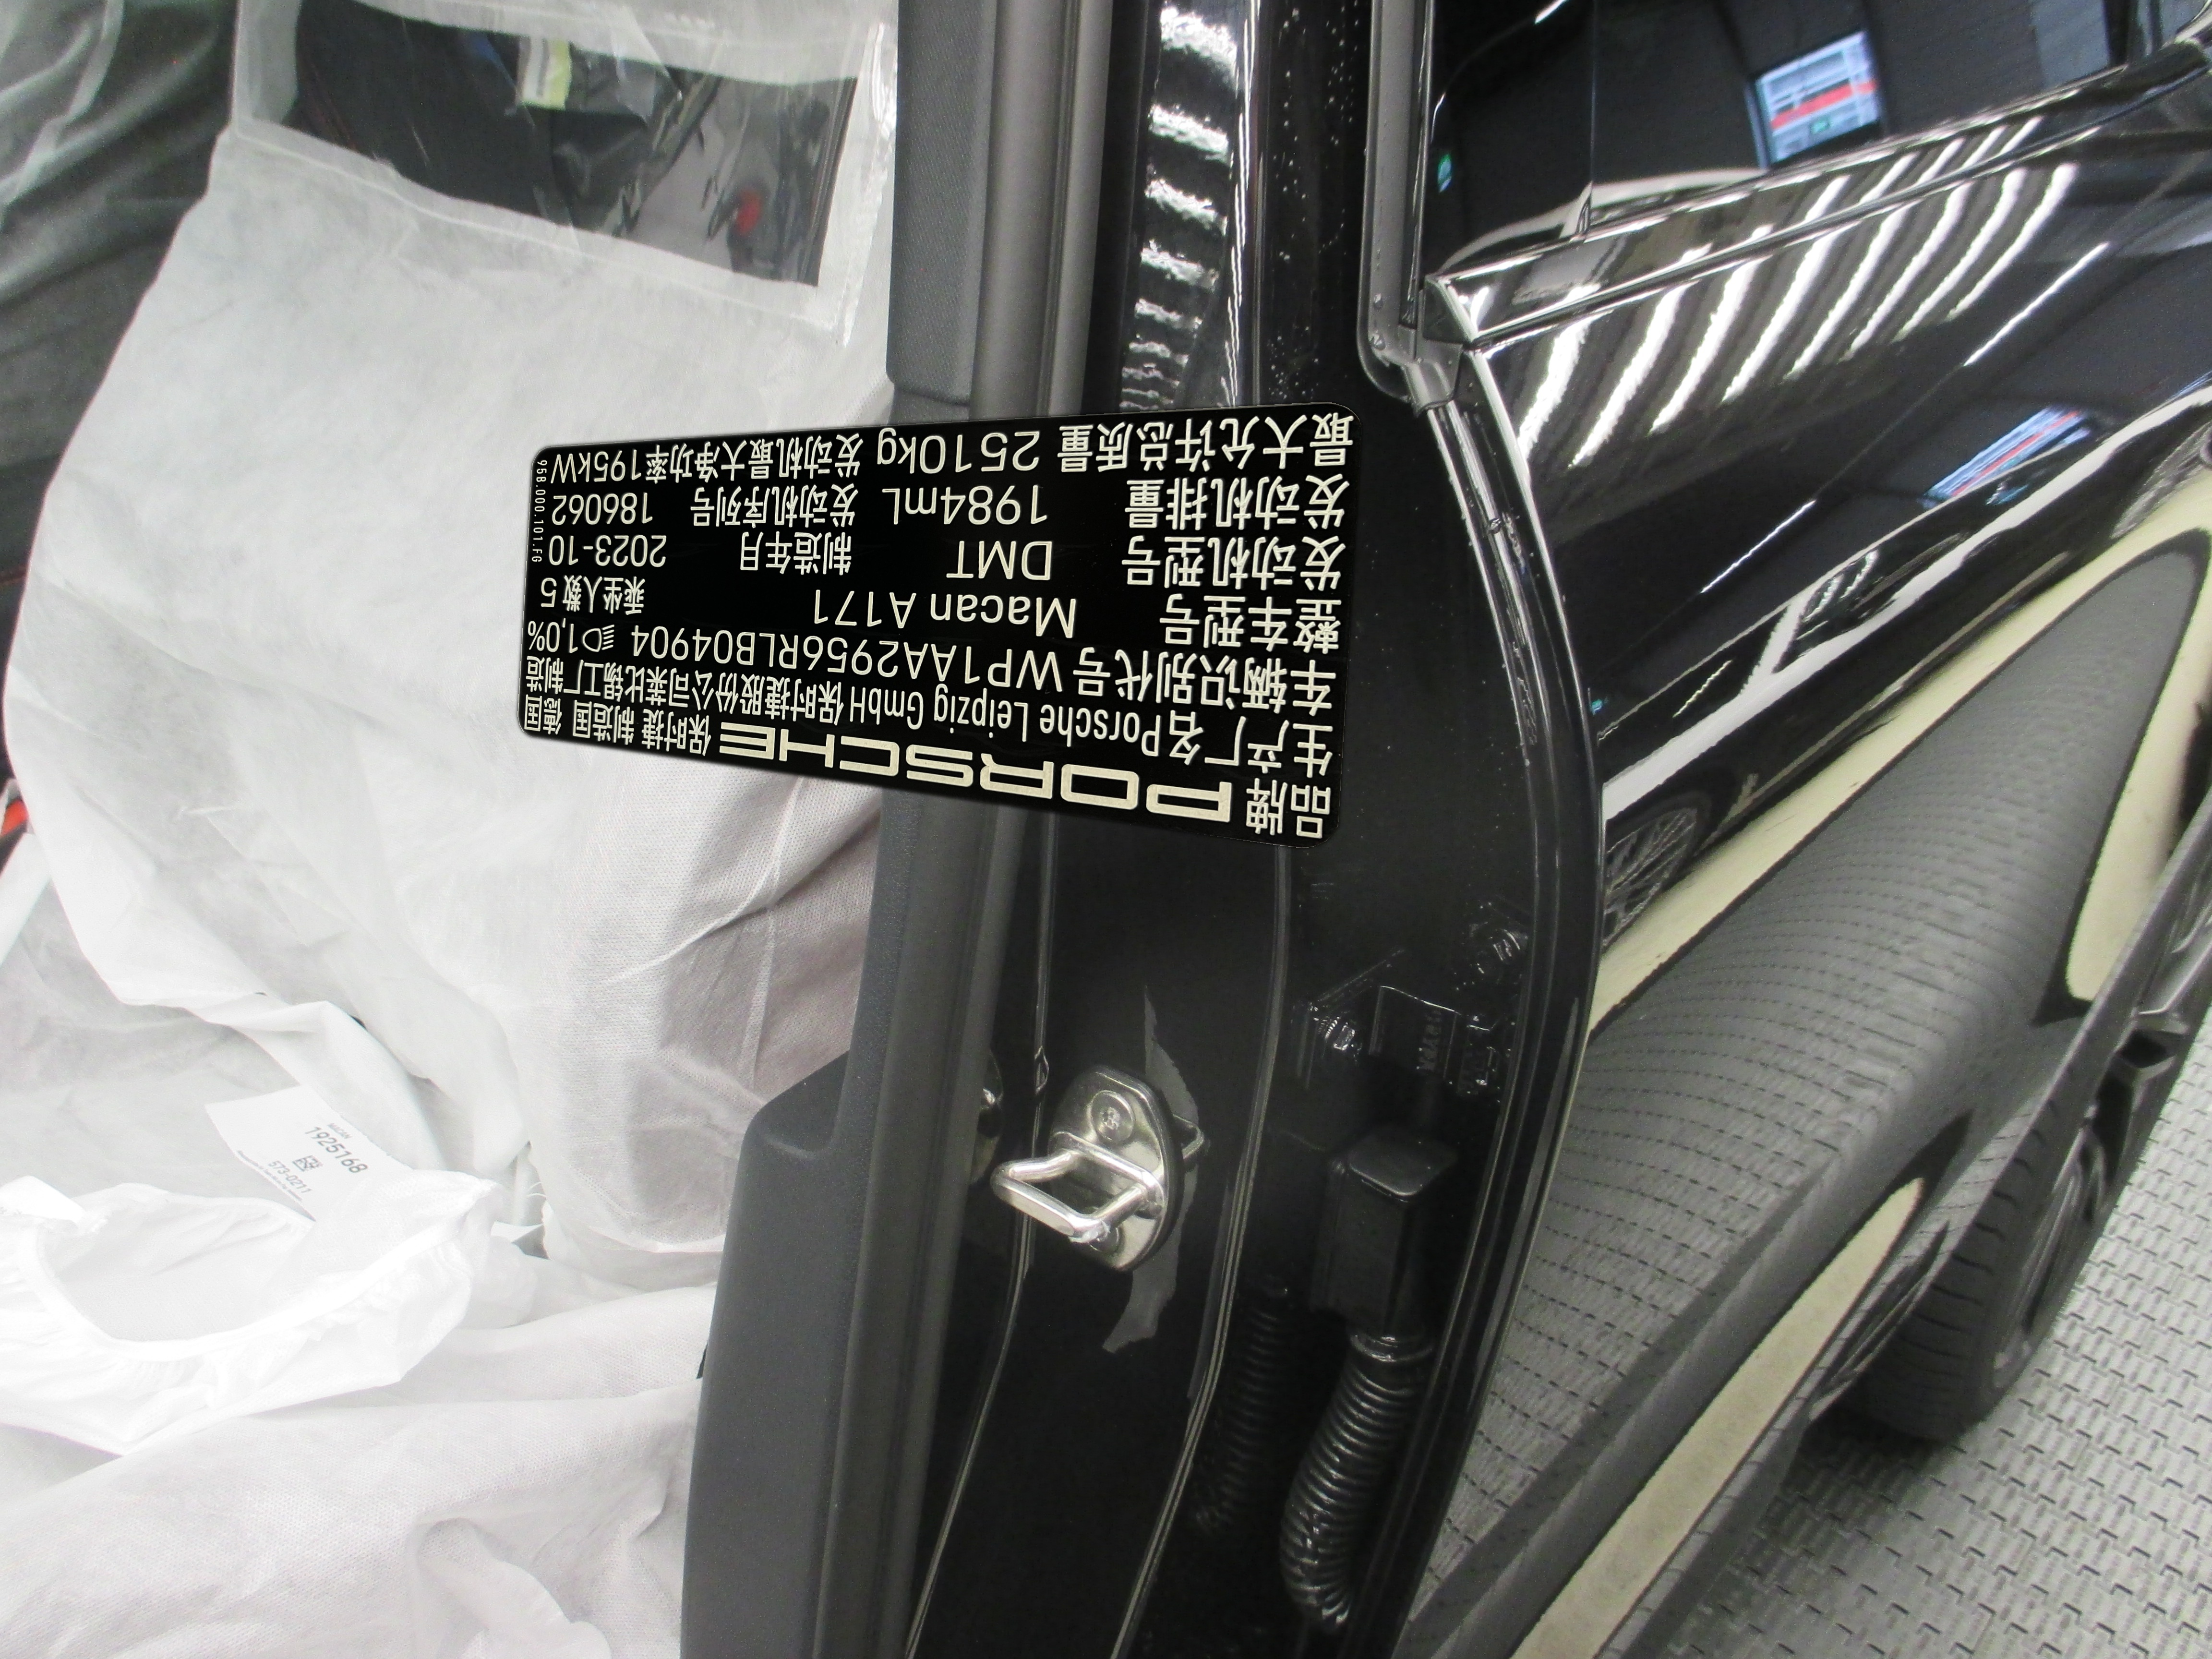Typlabel-China: (517, 403, 1362, 847)
